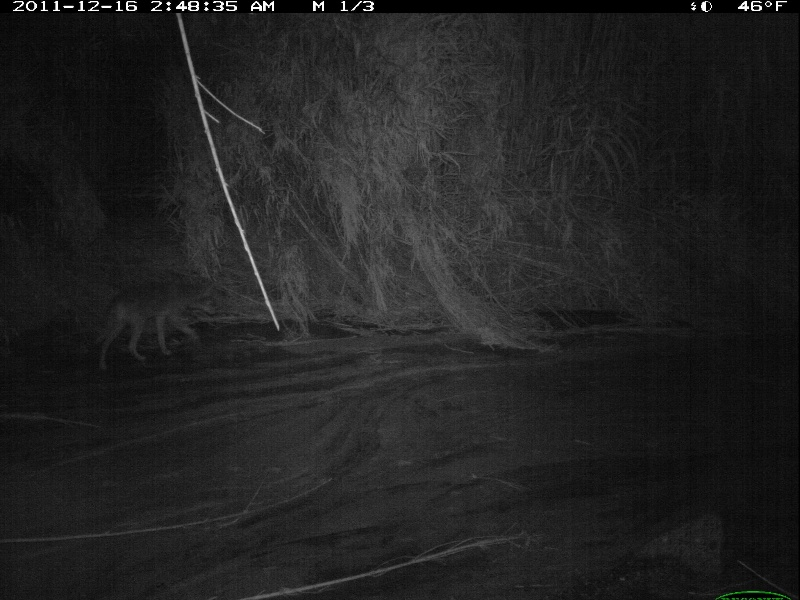coyote: (93, 273, 218, 371)
